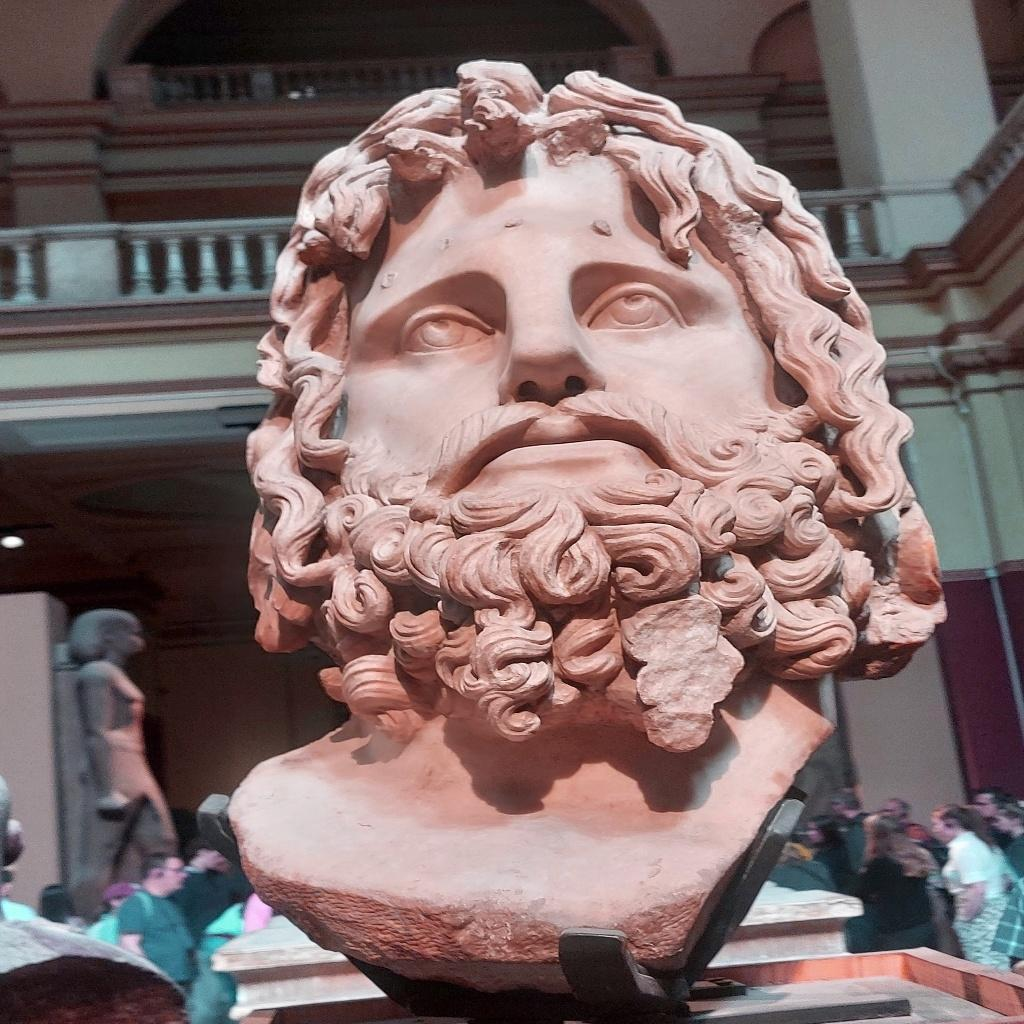Clossal Head of the god Serapis: (224, 56, 950, 1004)
